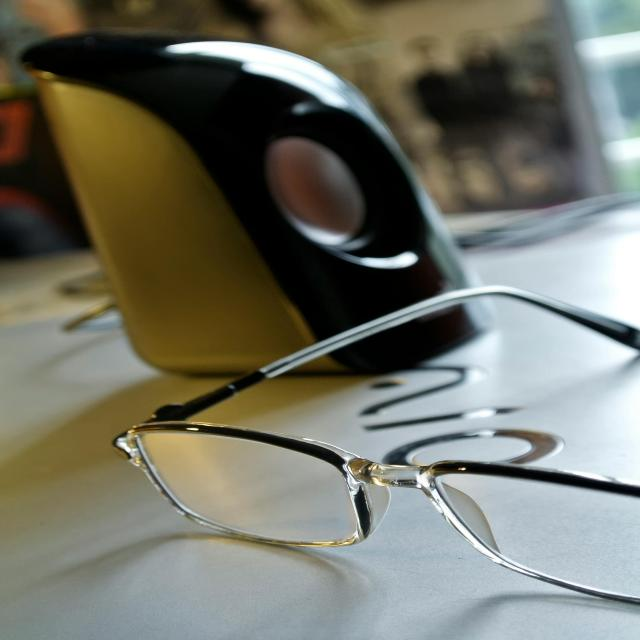oculos: (111, 282, 640, 608)
